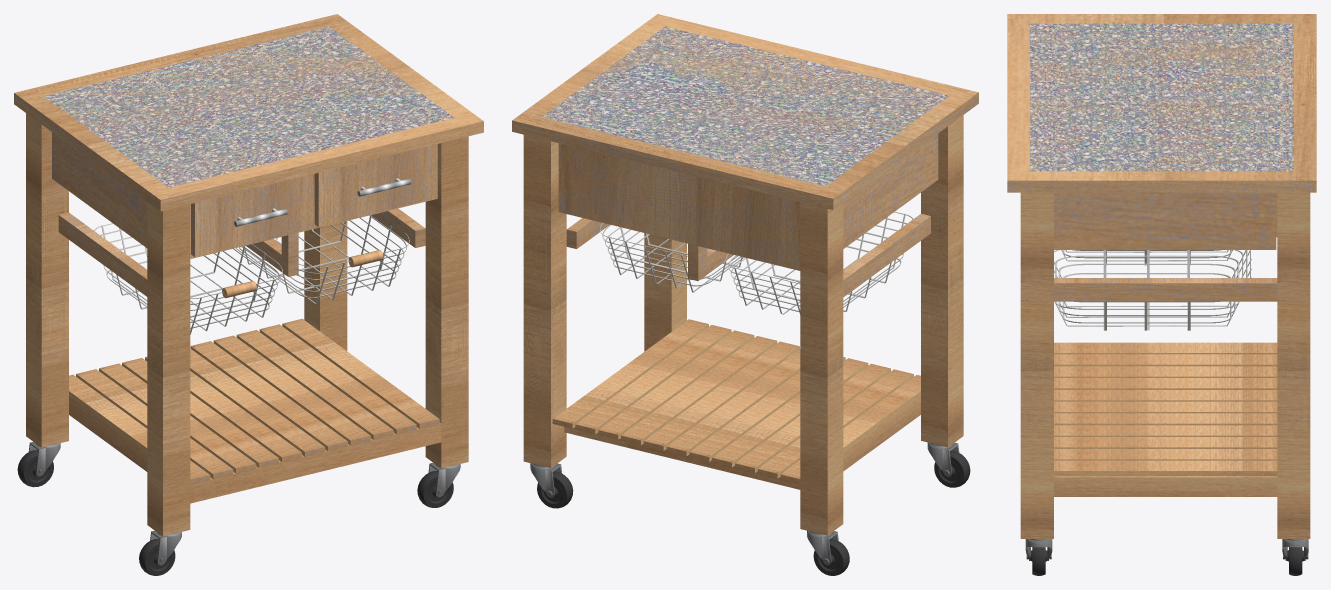
File: cart.dae
3 views of the same model, side by side, from view 1: azimuth 30°, elevation 25°; view 2: azimuth 150°, elevation 25°; view 3: azimuth 270°, elevation 25° (orthographic). The views are drawn at different scales.
Visible parts, largest first — view 1: group_2 (×10), group_17, group_10, group_9, group_8, group_15, group_14, group_16, group_12, group_11, group_13, group_4 (+4 smaller); view 2: group_2 (×9), group_9, group_8, group_17, group_10, group_14, group_16, group_12, group_15, group_11, group_13, group_4 (+4 smaller); view 3: group_2 (×6), group_8, group_10, group_16, group_7, group_14, group_3, group_13, group_4, group_5, group_6, group_11 (+6 smaller).
Boxes of the visible parts, bbox=[...] form: group_2 (×10): bbox=[14, 14, 483, 503]; group_17: bbox=[147, 202, 190, 536]; group_10: bbox=[425, 136, 468, 468]; group_9: bbox=[26, 113, 68, 447]; group_8: bbox=[304, 221, 347, 350]; group_15: bbox=[259, 324, 416, 434]; group_14: bbox=[190, 341, 347, 450]; group_16: bbox=[282, 318, 438, 428]; group_12: bbox=[236, 330, 393, 439]; group_11: bbox=[213, 335, 370, 445]; group_13: bbox=[190, 348, 324, 456]; group_4: bbox=[145, 356, 301, 461]; group_2 (×9): bbox=[512, 14, 978, 489]; group_9: bbox=[800, 202, 843, 535]; group_8: bbox=[523, 135, 566, 467]; group_17: bbox=[921, 115, 963, 447]; group_10: bbox=[644, 233, 686, 351]; group_14: bbox=[643, 341, 799, 450]; group_16: bbox=[552, 319, 708, 428]; group_12: bbox=[598, 330, 754, 439]; group_15: bbox=[575, 325, 731, 434]; group_11: bbox=[621, 336, 777, 445]; group_13: bbox=[666, 349, 800, 456]; group_4: bbox=[689, 357, 845, 461]; group_2 (×6): bbox=[1007, 14, 1316, 496]; group_8: bbox=[1277, 192, 1310, 538]; group_10: bbox=[1020, 192, 1053, 538]; group_16: bbox=[1054, 460, 1277, 476]; group_7: bbox=[1054, 354, 1277, 366]; group_14: bbox=[1054, 413, 1277, 425]; group_3: bbox=[1054, 342, 1277, 354]; group_13: bbox=[1054, 401, 1277, 413]; group_4: bbox=[1054, 390, 1277, 401]; group_5: bbox=[1054, 366, 1277, 377]; group_6: bbox=[1054, 378, 1277, 389]; group_11: bbox=[1054, 425, 1277, 436].
Size of the model in its own units: 30.05 by 23.23 by 34.
